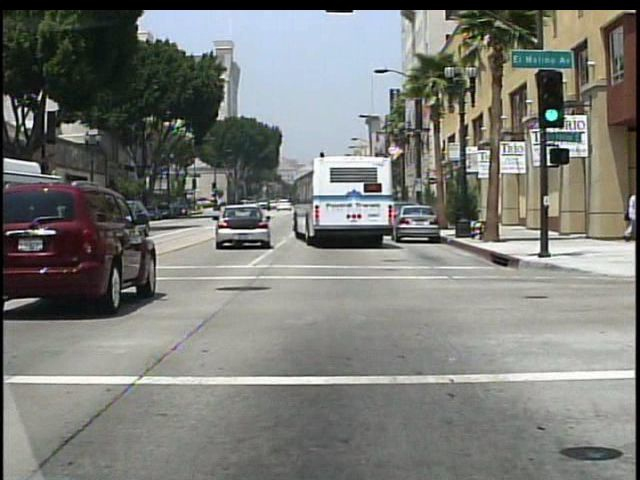person: (622, 188, 639, 243)
